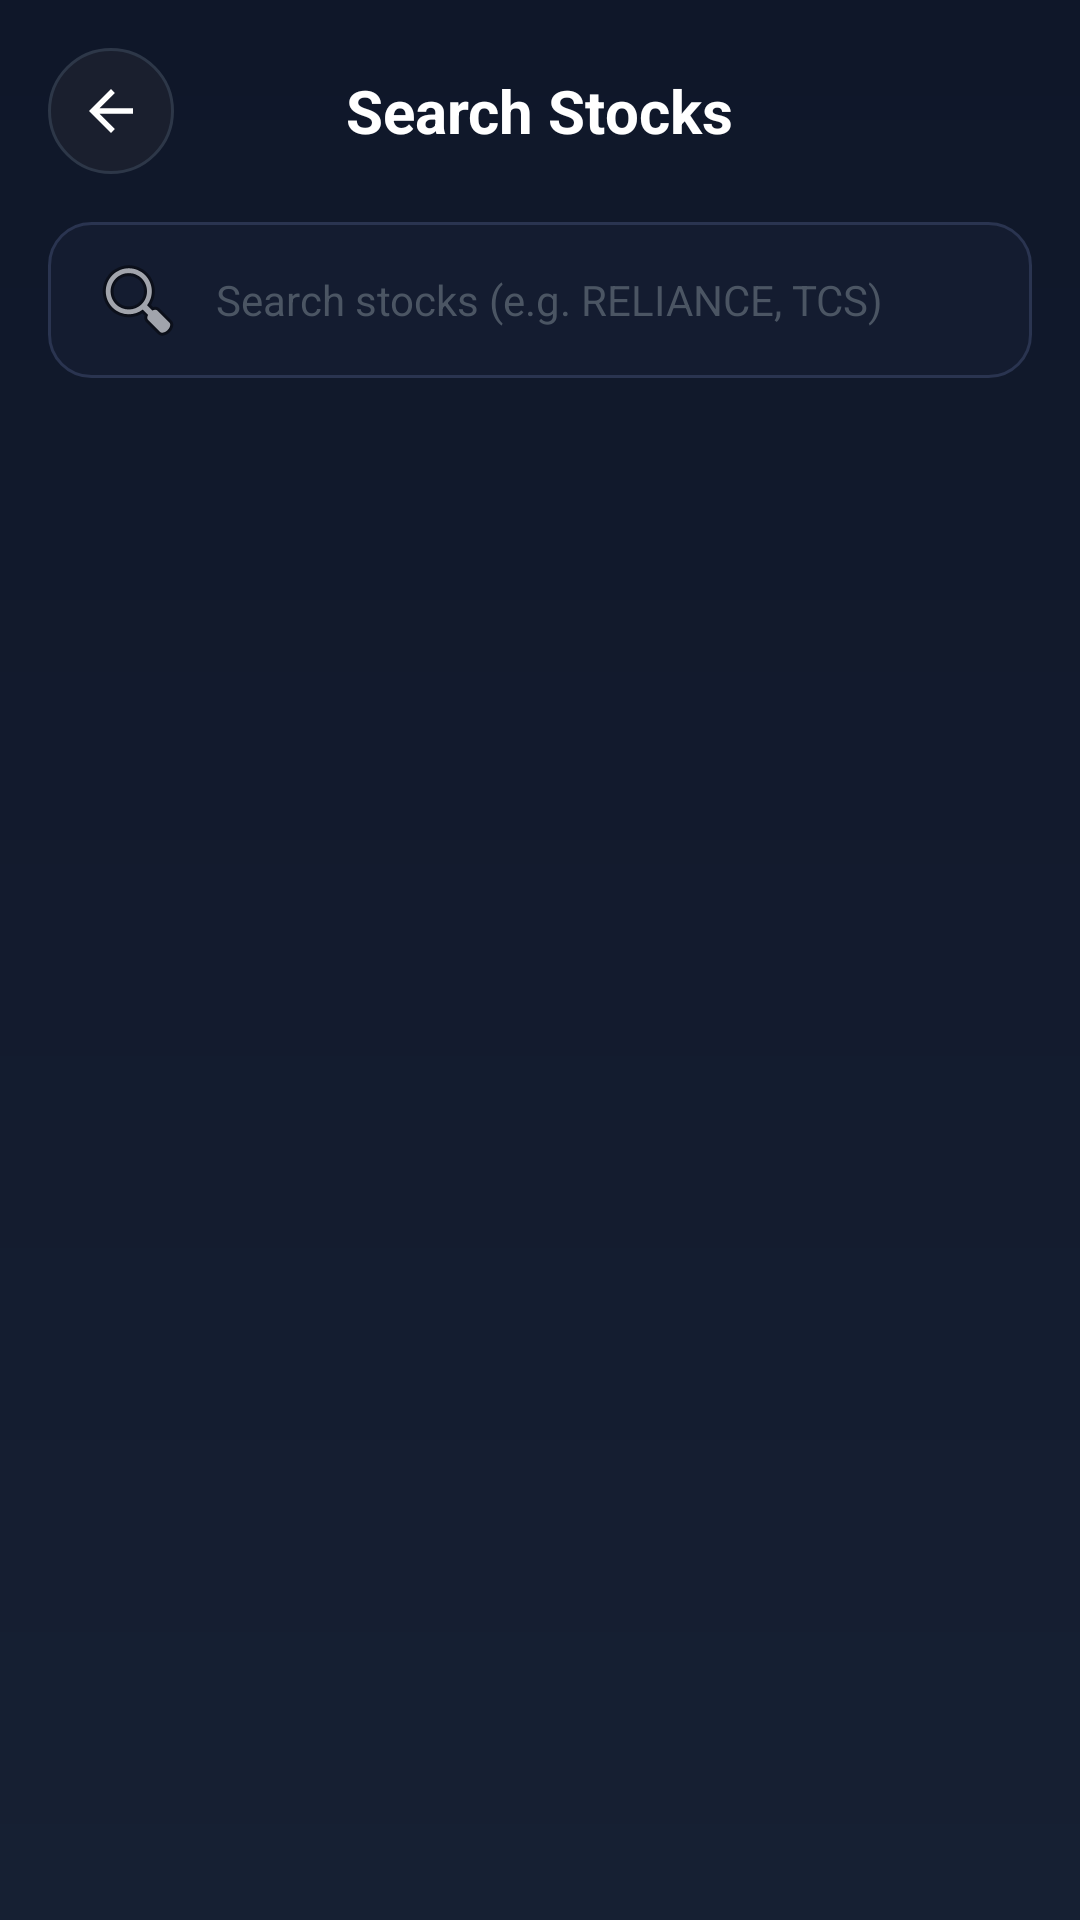

Icons on this 1080px×1920px Android screen, each with the point to tap as [x,y]:
back arrow: [111,111]
